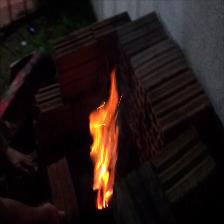fire: (81, 68, 123, 214)
